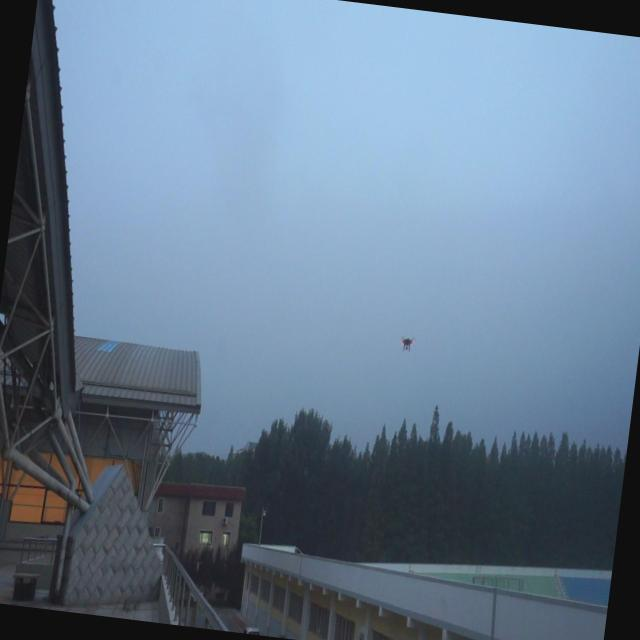drone: (396, 332, 418, 356)
